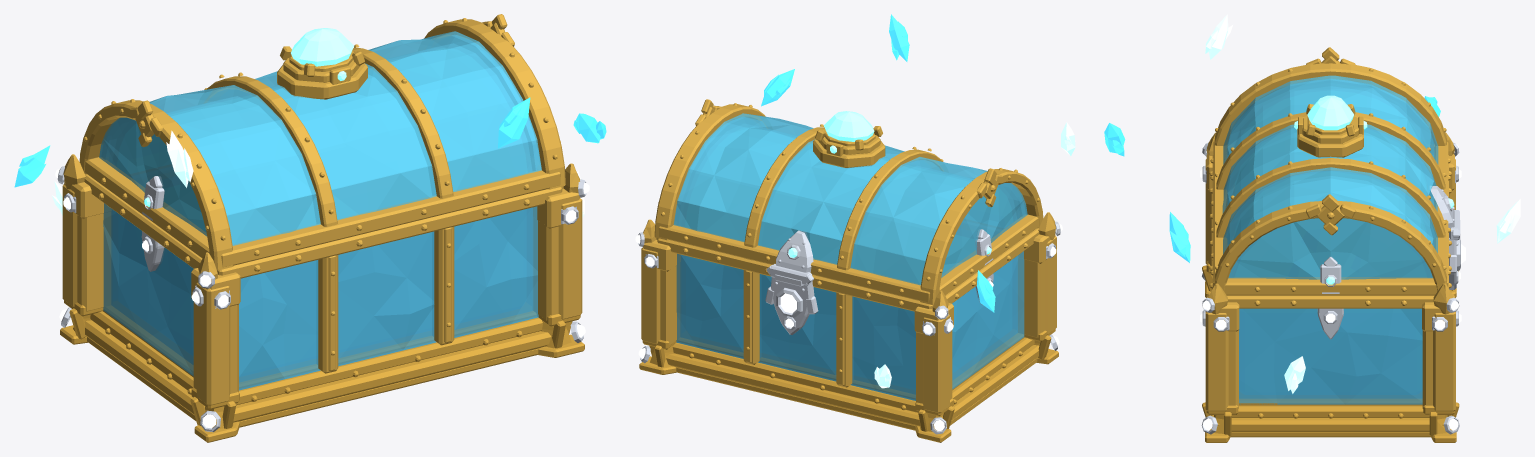
The model's file is group_chest.fbx.
The picture shows the model from 3 angles, left to right: view 1: azimuth 30°, elevation 25°; view 2: azimuth 150°, elevation 25°; view 3: azimuth 270°, elevation 25°; orthographic projection. The views are drawn at different scales.
Parts seen in each view (by area): view 1: Lid_CrystalDome, Base_CrystalWalls, Base_CornerPillars, Lid_GoldArches, Base_GoldPlinth, Lid_CrownMount, Base_LockEscutcheon, Lid_ApexDiamond, Base_DiamondGems, Glitch_Shard_3, Glitch_Shard_4, Glitch_Shard_5 (+1 smaller); view 2: Lid_CrystalDome, Base_CrystalWalls, Base_CornerPillars, Lid_GoldArches, Base_GoldPlinth, Base_LockEscutcheon, Lid_FrontClasp, Lid_CrownMount, Lid_ApexDiamond, Base_DiamondGems, Glitch_Shard_3, Glitch_Shard_1 (+1 smaller); view 3: Lid_CrystalDome, Lid_GoldArches, Base_CrystalWalls, Base_CornerPillars, Base_GoldPlinth, Base_LockEscutcheon, Lid_CrownMount, Lid_ApexDiamond, Lid_FrontClasp, Base_DiamondGems, Glitch_Shard_1, Glitch_Shard_4 (+3 smaller).
Boxes of the visible parts, x1,y1,x2,y2 form: Lid_CrystalDome: (99, 31, 541, 245); Base_CrystalWalls: (103, 203, 538, 390); Base_CornerPillars: (62, 154, 582, 405); Lid_GoldArches: (79, 14, 565, 270); Base_GoldPlinth: (60, 300, 584, 442); Lid_CrownMount: (277, 46, 367, 99); Base_LockEscutcheon: (57, 166, 586, 432); Lid_ApexDiamond: (144, 28, 353, 206); Base_DiamondGems: (55, 169, 589, 428); Glitch_Shard_3: (498, 97, 530, 148); Glitch_Shard_4: (166, 130, 193, 187); Glitch_Shard_5: (14, 145, 50, 187); Lid_CrystalDome: (673, 113, 1027, 285); Base_CrystalWalls: (676, 251, 1024, 400); Base_CornerPillars: (641, 212, 1056, 413); Lid_GoldArches: (654, 99, 1043, 304); Base_GoldPlinth: (639, 329, 1058, 442); Base_LockEscutcheon: (638, 221, 1060, 434); Lid_FrontClasp: (766, 229, 993, 286); Lid_CrownMount: (813, 126, 885, 167); Lid_ApexDiamond: (788, 111, 991, 257); Base_DiamondGems: (635, 224, 1062, 430); Glitch_Shard_3: (889, 14, 909, 61); Glitch_Shard_1: (761, 69, 794, 106); Lid_CrystalDome: (1222, 75, 1438, 279); Lid_GoldArches: (1210, 47, 1450, 295); Base_CrystalWalls: (1239, 308, 1422, 404); Base_CornerPillars: (1205, 132, 1455, 411); Base_GoldPlinth: (1202, 261, 1459, 442); Base_LockEscutcheon: (1201, 142, 1460, 434); Lid_CrownMount: (1297, 104, 1363, 157); Lid_ApexDiamond: (1294, 95, 1454, 284); Lid_FrontClasp: (1320, 186, 1460, 293); Base_DiamondGems: (1200, 144, 1465, 430); Glitch_Shard_1: (1169, 212, 1190, 262); Glitch_Shard_4: (1205, 14, 1232, 59).
Bounding box in the file's own units: 8.72 × 5.54 × 7.61.
